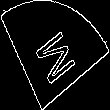M_SW: (30, 22, 80, 88)
